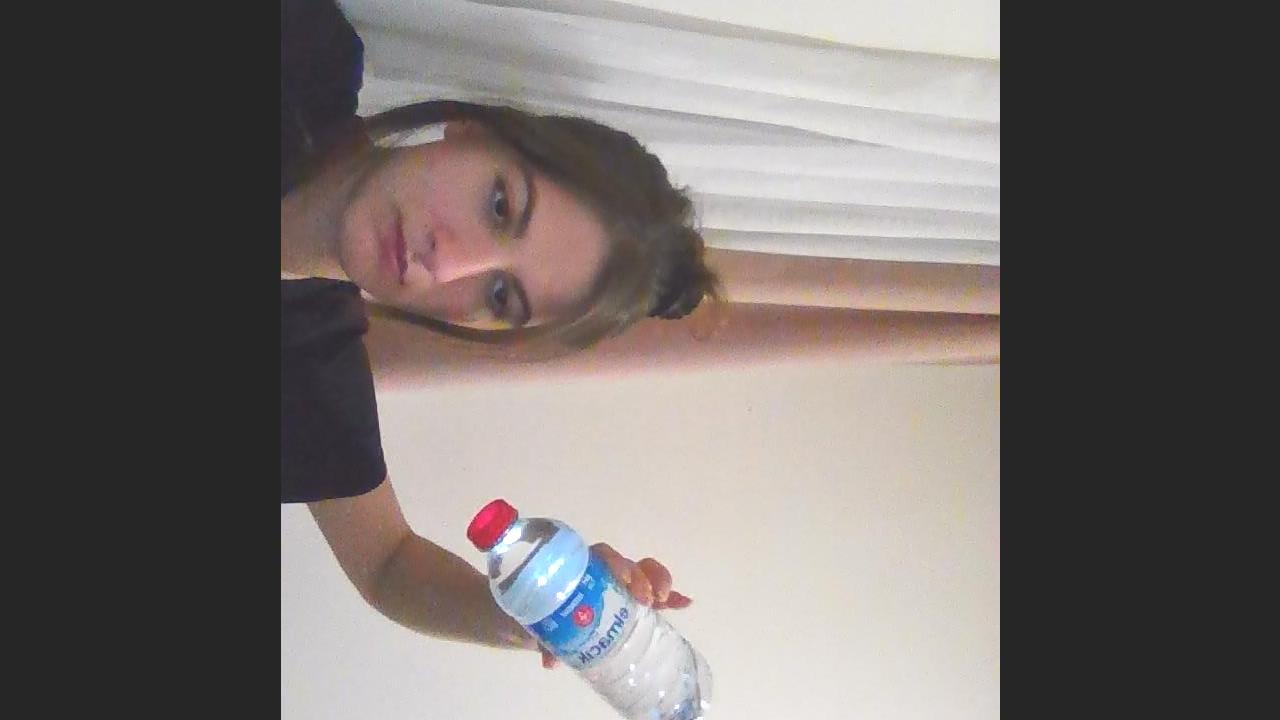bottle: (463, 497, 718, 720)
